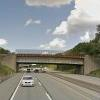Car: (18, 74, 38, 90)
